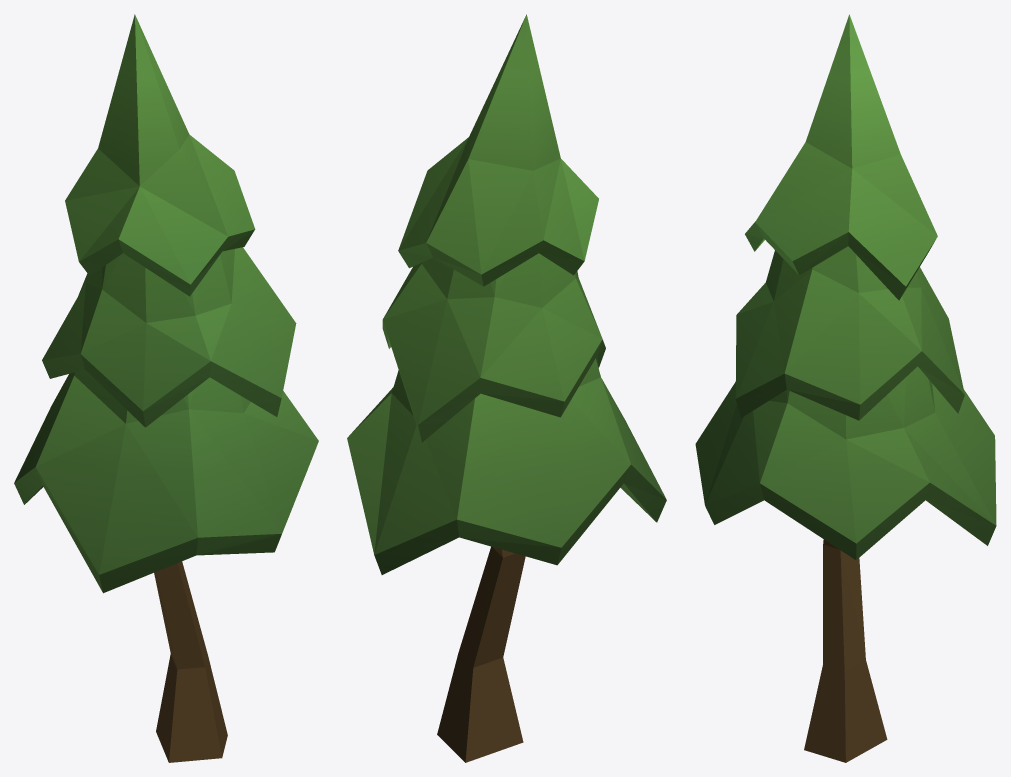
The model's file is plant_L03.FBX.
3 renders of one model, left to right at view 1: azimuth 30°, elevation 25°; view 2: azimuth 150°, elevation 25°; view 3: azimuth 270°, elevation 25°, orthographic. The views are drawn at different scales.
Visible parts, largest first — view 1: Plant_L03; view 2: Plant_L03; view 3: Plant_L03.
Boxes of the visible parts, x1,y1,x2,y2 form: Plant_L03: [14, 14, 318, 762]; Plant_L03: [347, 14, 666, 762]; Plant_L03: [695, 14, 996, 762].
Bounding box in the file's own units: 124 × 323 × 125.
1 material, 1 textured.
